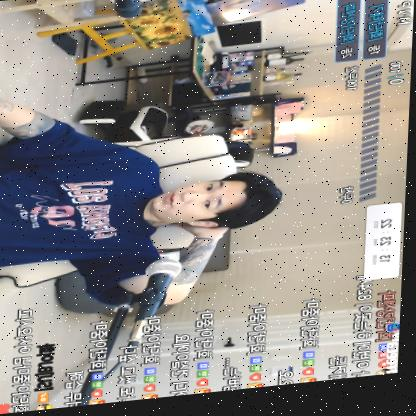streamer: (0, 63, 291, 324)
